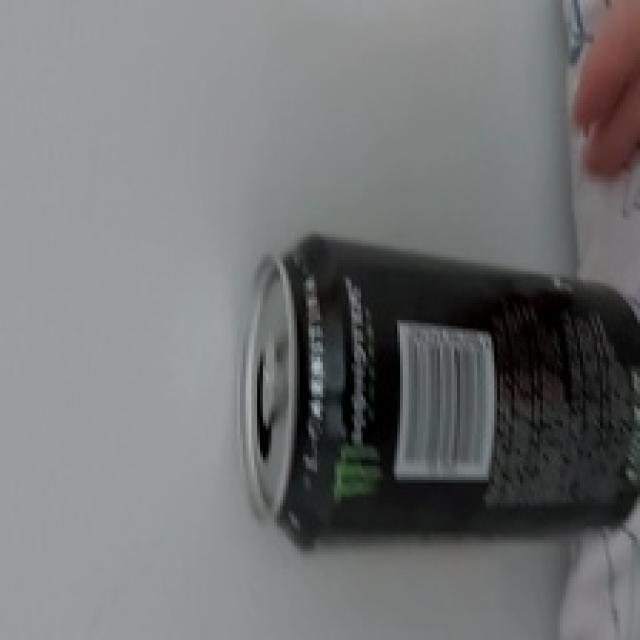recyclable: (234, 230, 640, 553)
